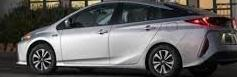Cars: (18, 3, 237, 77)
